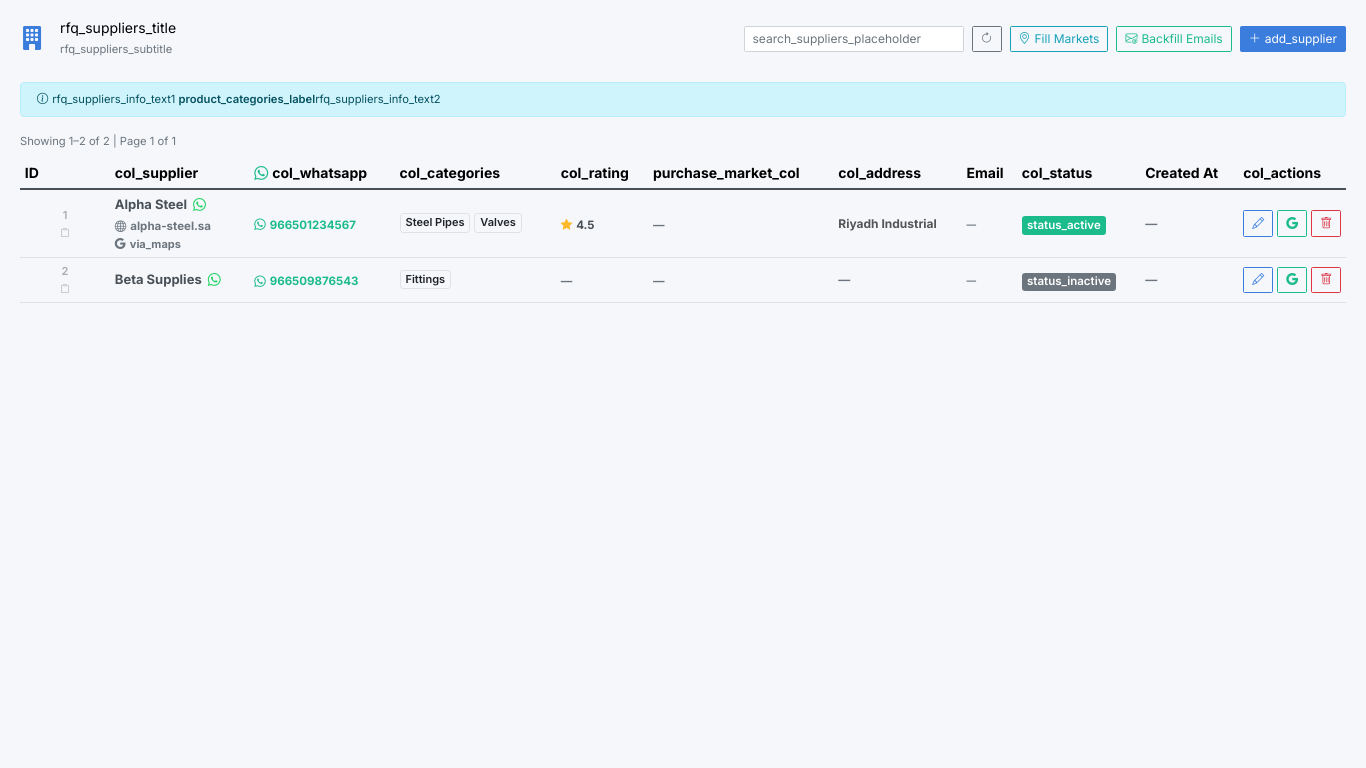
RFQSuppliersIndex smoke tests › 10. Edit button opens SupplierForm pre-filled with supplier data
Check: the text "Alpha Steel" is shown, box [115, 195, 187, 214]
Click the button titled "edit" in the row of "alpha-steel.sa": point(1258, 224) [1243, 210, 1273, 237]
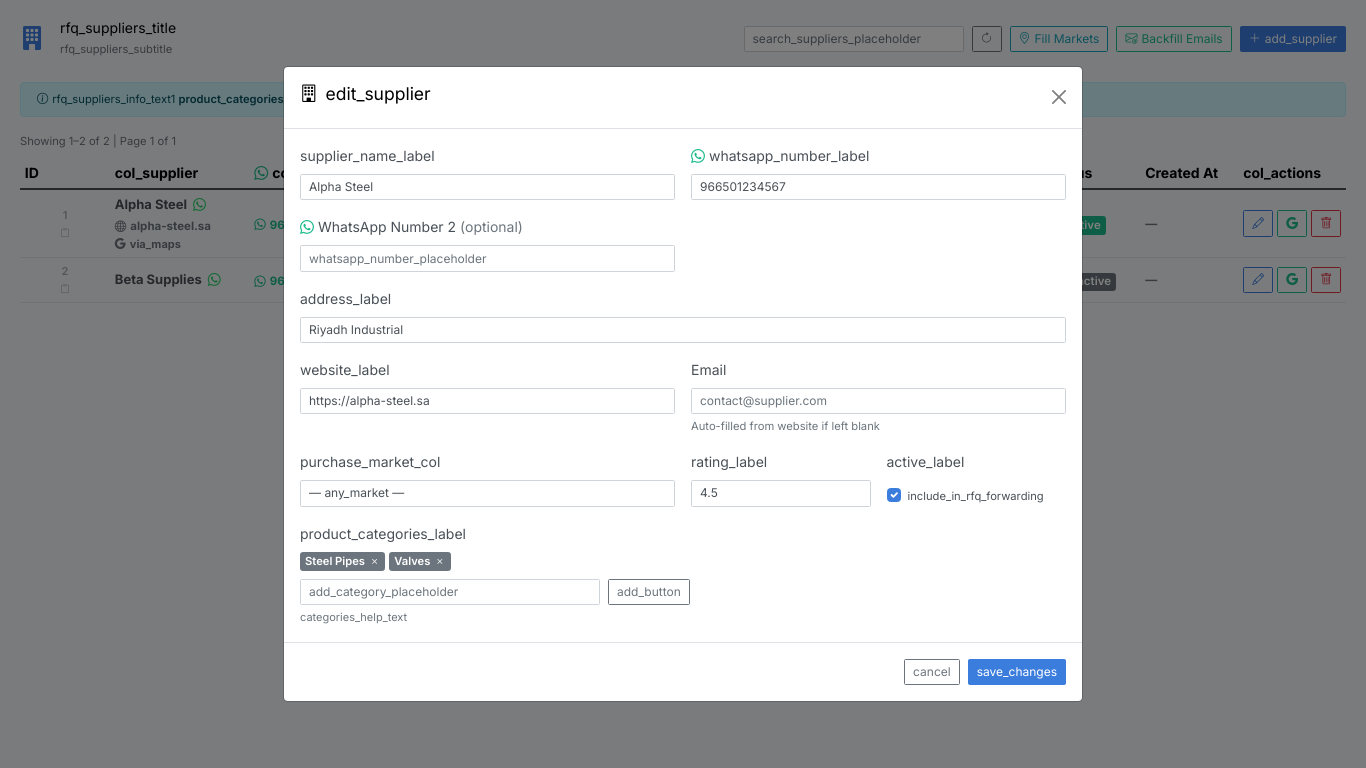
Check: the field with placeholder "supplier_name_placeholder" below "supplier_name_label" holds "Alpha Steel", box [300, 174, 675, 200]
